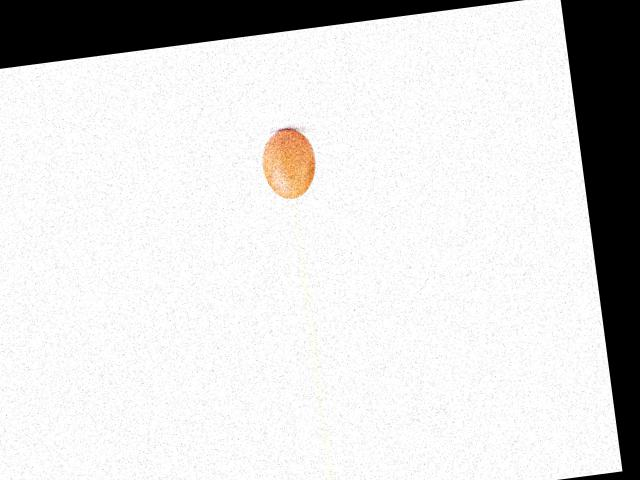egg: (259, 125, 319, 201)
